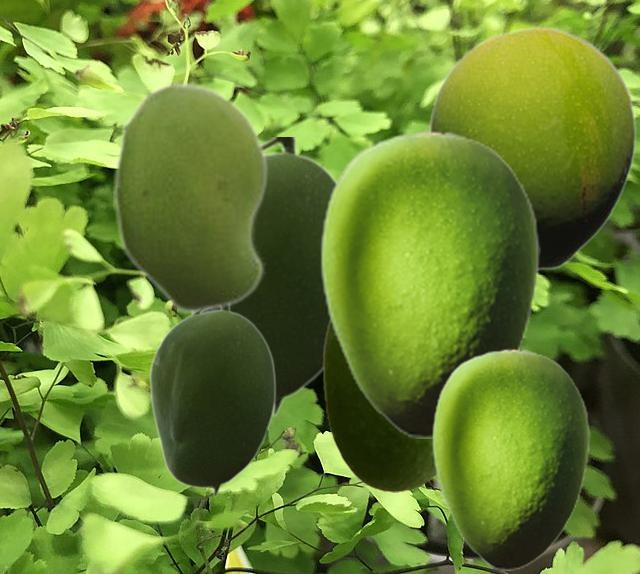green_mango: (319, 130, 539, 437), (428, 26, 636, 270), (113, 81, 268, 314), (431, 348, 589, 569), (231, 137, 336, 416), (148, 307, 275, 497), (322, 316, 436, 491)
